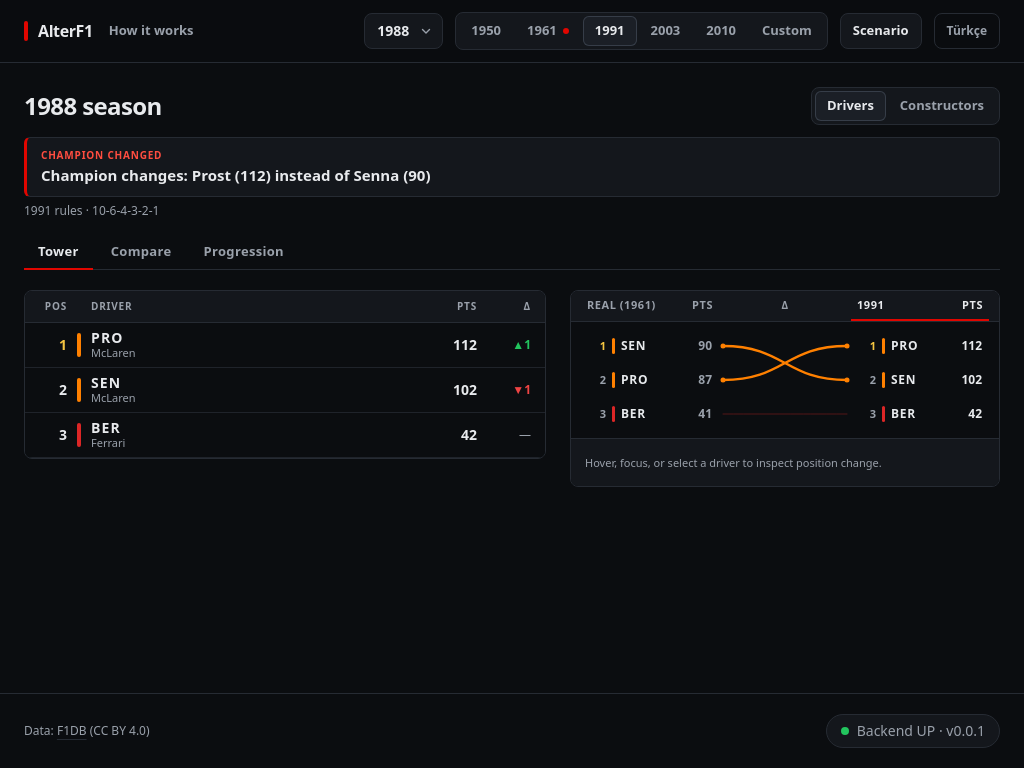
Test case: SeasonPage › shows the "Champion changes" headline and refetches when another system is selected
Expected: the heading "1988 season" is shown, [24,90,162,122]
Expected: the text "Champion changes: Prost (112) instead of Senna (90)" is shown, [41,165,430,185]
Step 1. Click the button "1961" → point(548, 31), box [515,16,581,46]
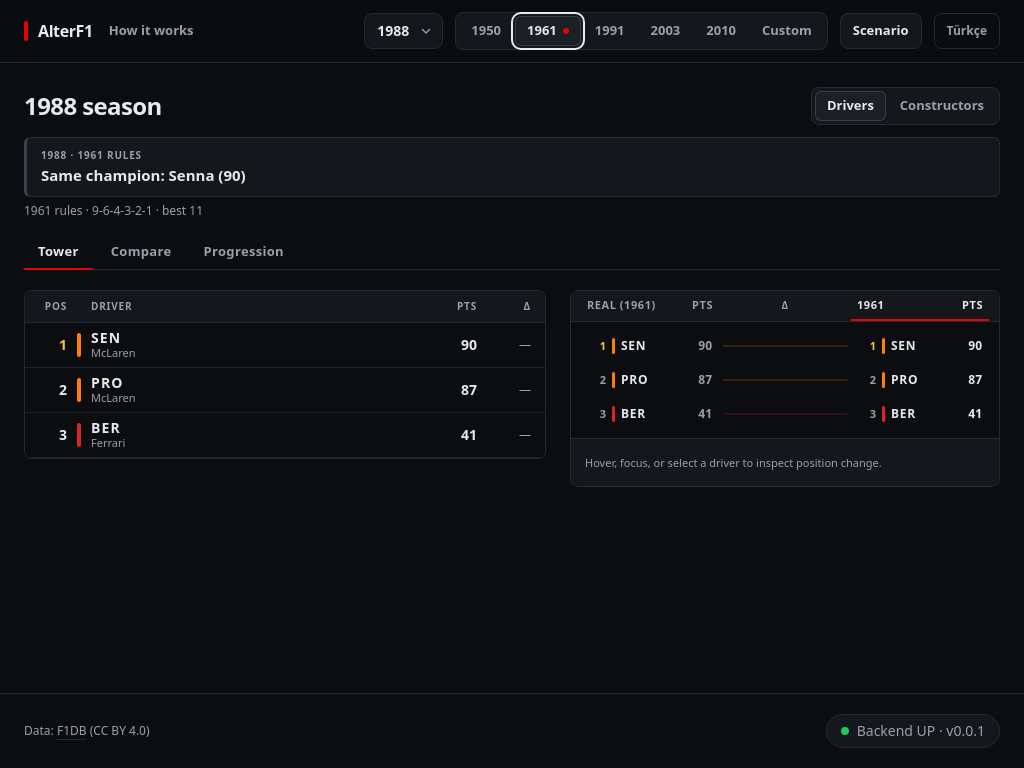
Expected: the text "Same champion: Senna (90)" is shown, [41,165,246,185]
